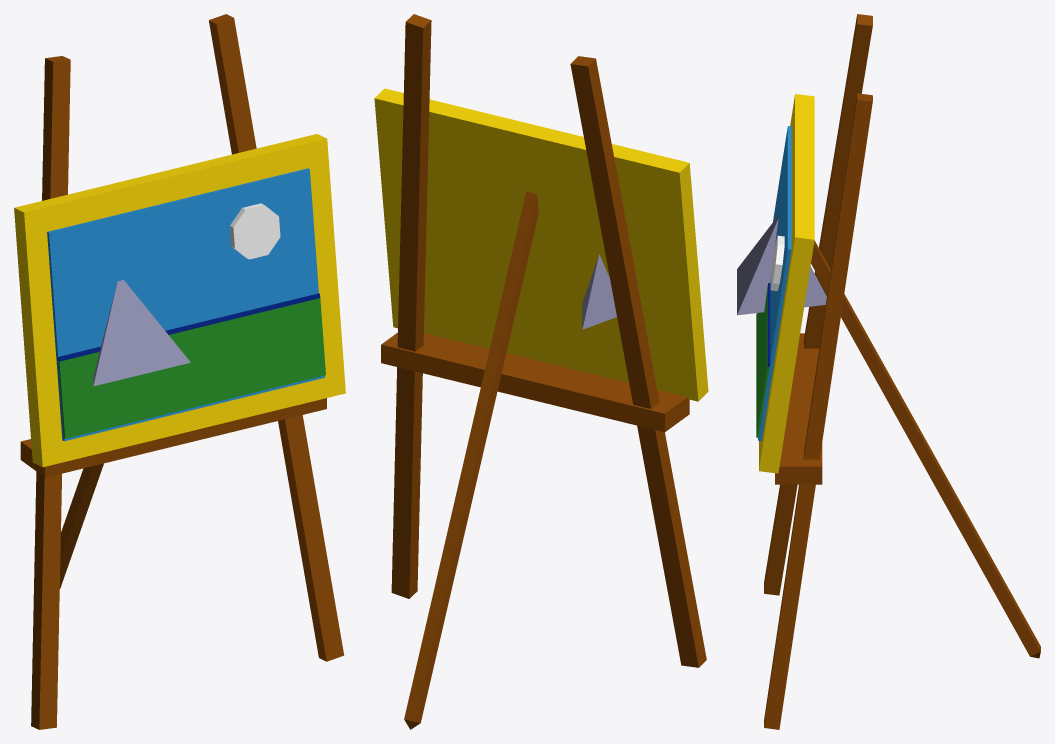
File: painting.glb
3 renders of one model, left to right at view 1: azimuth 30°, elevation 25°; view 2: azimuth 150°, elevation 25°; view 3: azimuth 270°, elevation 25°, orthographic. The views are drawn at different scales.
Visible parts, largest first — view 1: root; view 2: root; view 3: root.
Boxes of the visible parts, box(x1,y1,x2,y2) form: root: box(14, 14, 345, 729); root: box(374, 14, 708, 729); root: box(737, 14, 1040, 729).
Bounding box in the file's own units: 0.8663 × 1.68 × 0.7698.
